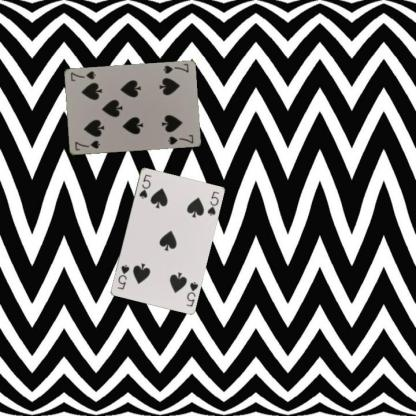5s: (136, 172, 152, 199), (184, 279, 199, 307)
7s: (160, 61, 190, 75), (72, 138, 101, 152)
